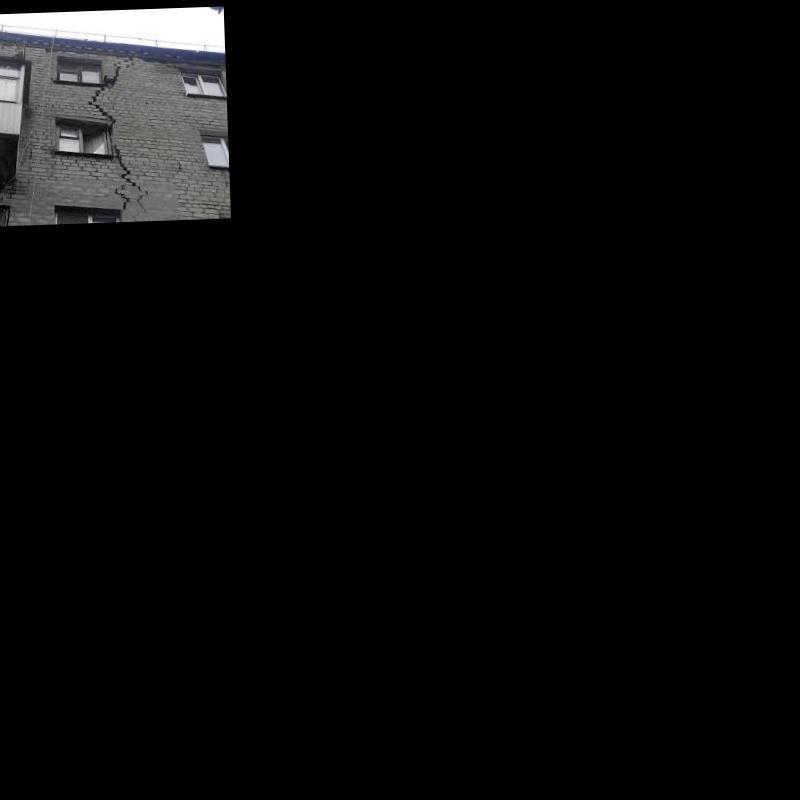pothole: (88, 55, 148, 212)
